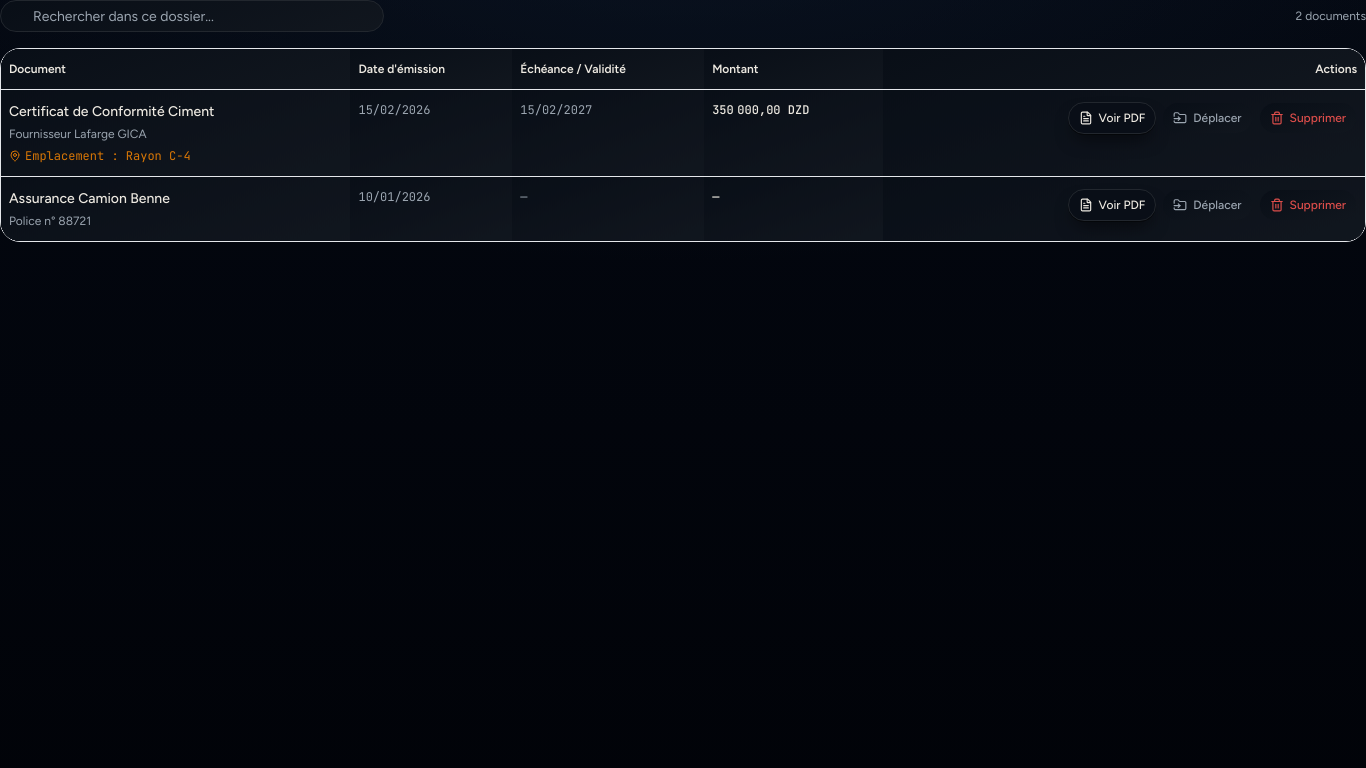
Test case: Archives Module UI Pages & Components › ArchiveDocumentTable Component › opens MoveDocumentDialog when "Déplacer" is clicked
Click the button "Déplacer" in the row of "Certificat de Conformité Ciment": (1207, 118) [1162,102,1252,134]
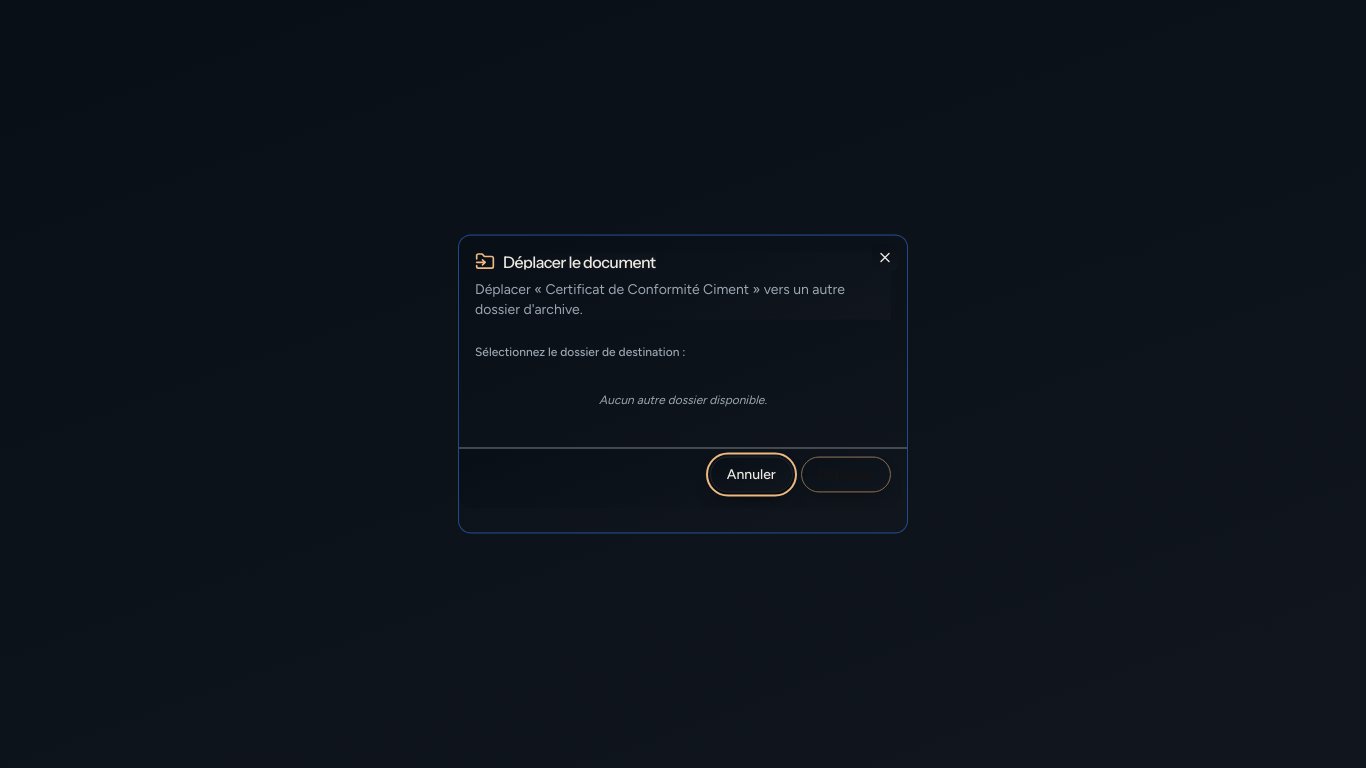
Now the heading "Déplacer le document" is shown, box [503,254,656,270]
